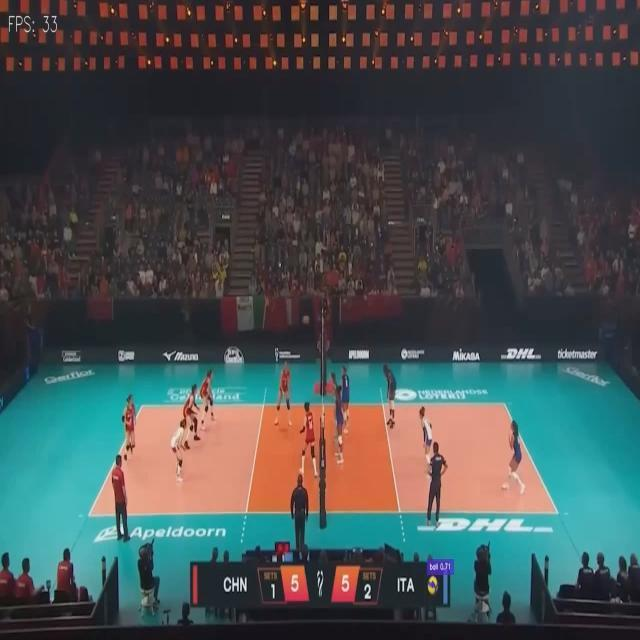volleyball: (302, 316, 310, 324)
